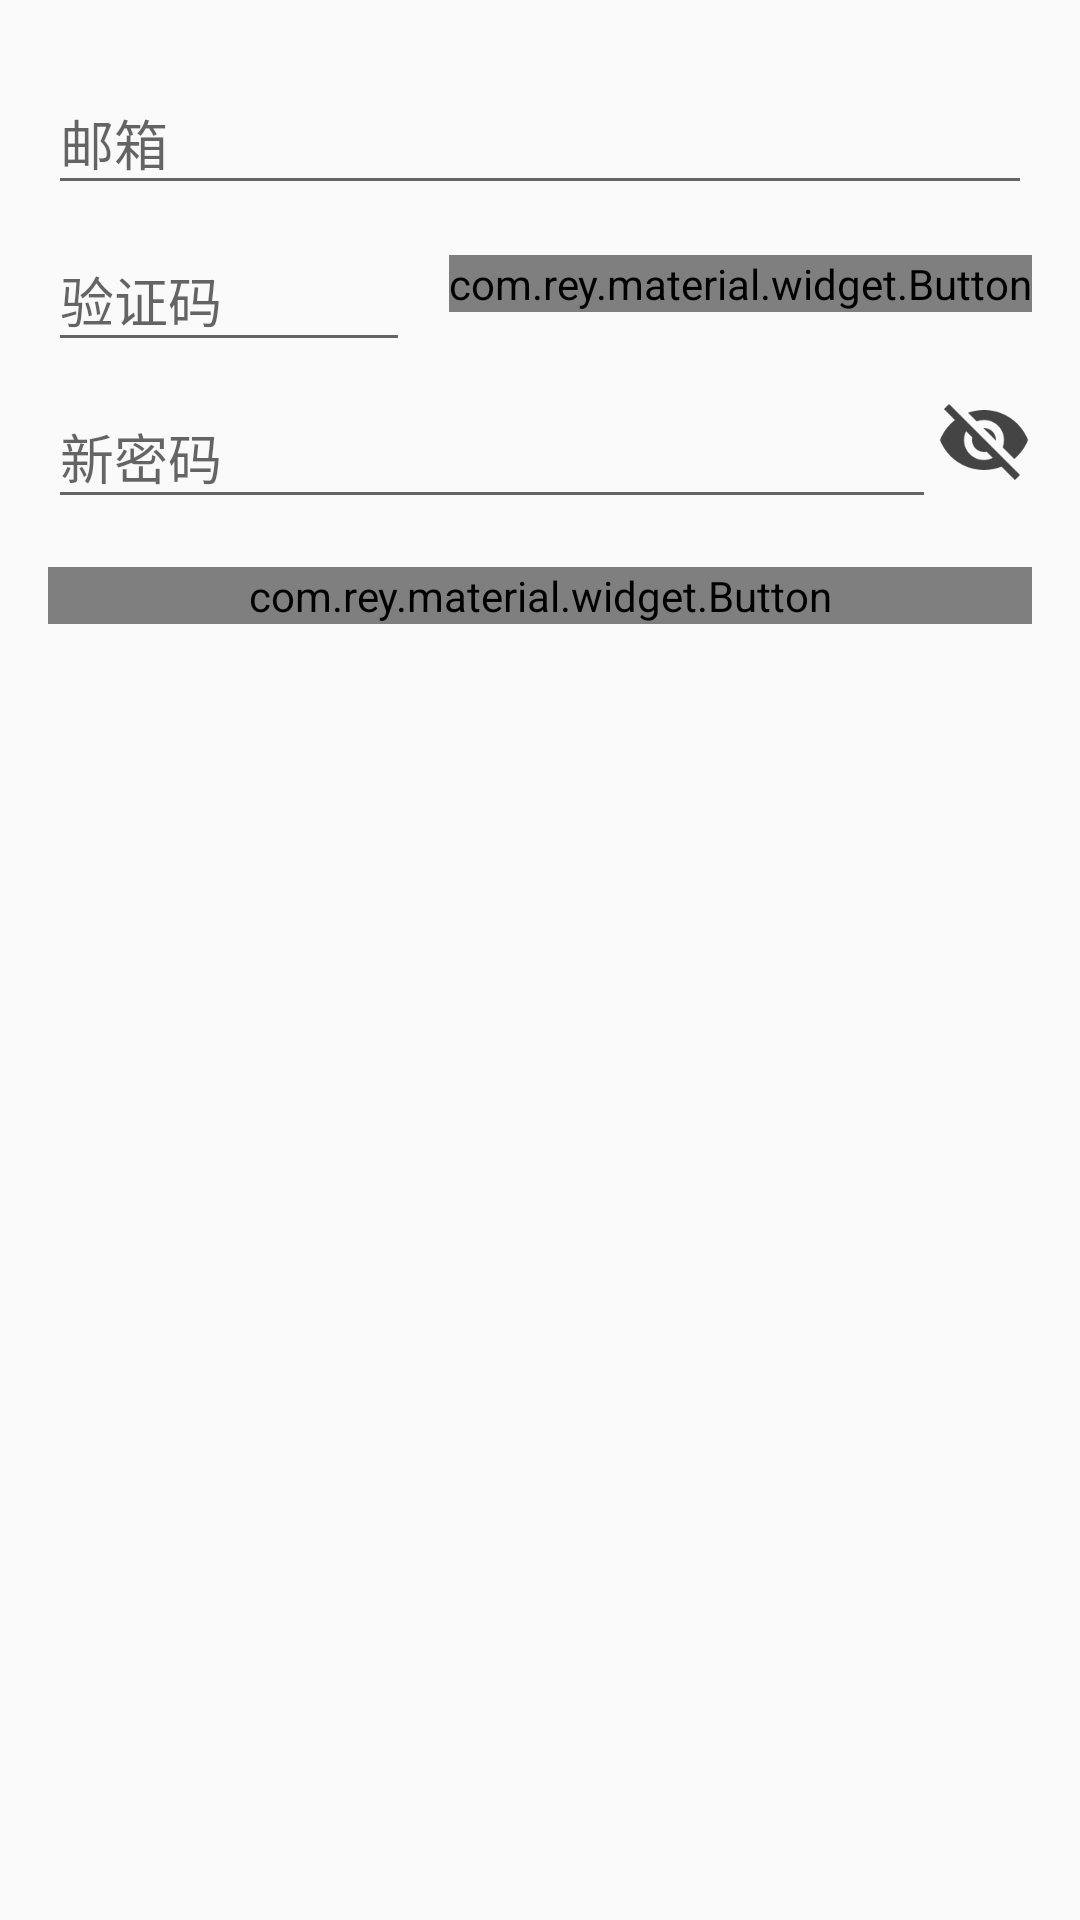

Named icons in this screenshot (1080 x 1920) and their bounding boxes, bbox=(x1, y1, x2, y2):
eye off: bbox=(940, 404, 1028, 480)
